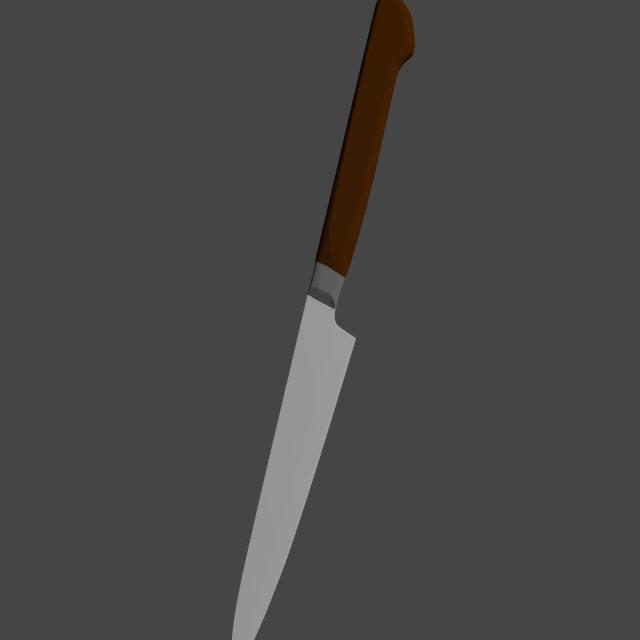knife: (315, 0, 415, 279)
